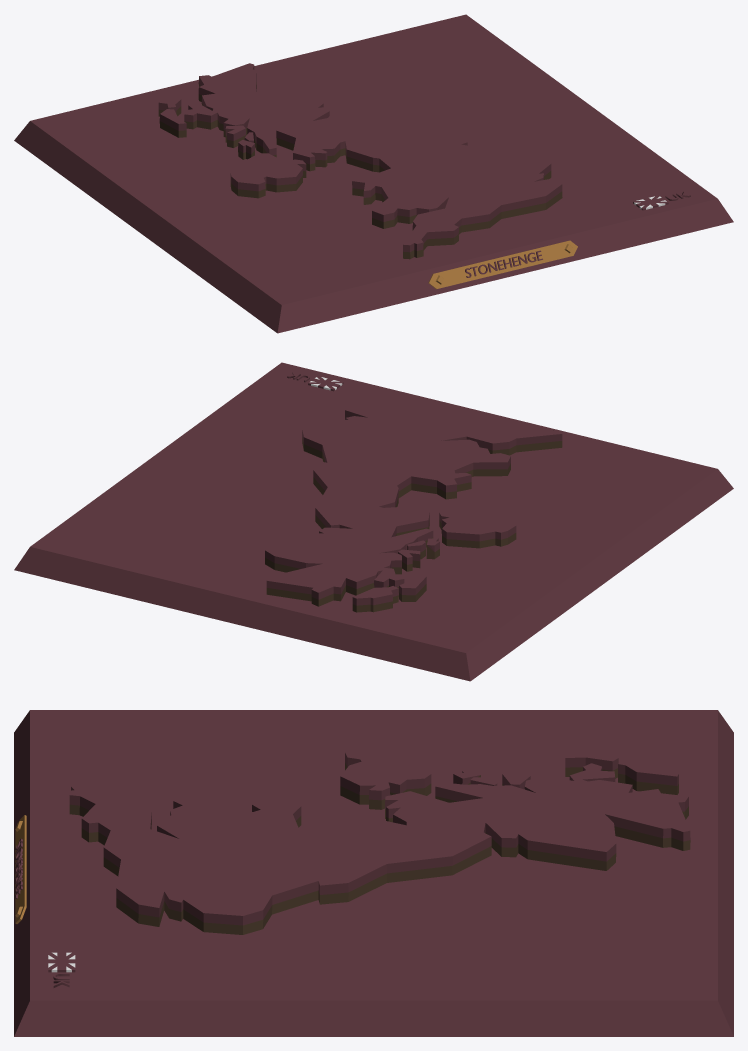
File: SM_Island_Stonehenge_Landmark.fbx
3 renders of one model, top to bottom at view 1: azimuth 30°, elevation 25°; view 2: azimuth 150°, elevation 25°; view 3: azimuth 270°, elevation 25°, orthographic. The views are drawn at different scales.
Visible parts, largest first — view 1: Island_Stonehenge_Landmark; view 2: Island_Stonehenge_Landmark; view 3: Island_Stonehenge_Landmark.
Part boxes in pixels (x1,y1,x2,y2): Island_Stonehenge_Landmark: [14, 14, 733, 333]; Island_Stonehenge_Landmark: [14, 362, 733, 681]; Island_Stonehenge_Landmark: [14, 710, 733, 1036].
Bounding box in the file's own units: 68.5 × 5.09 × 68.5.
